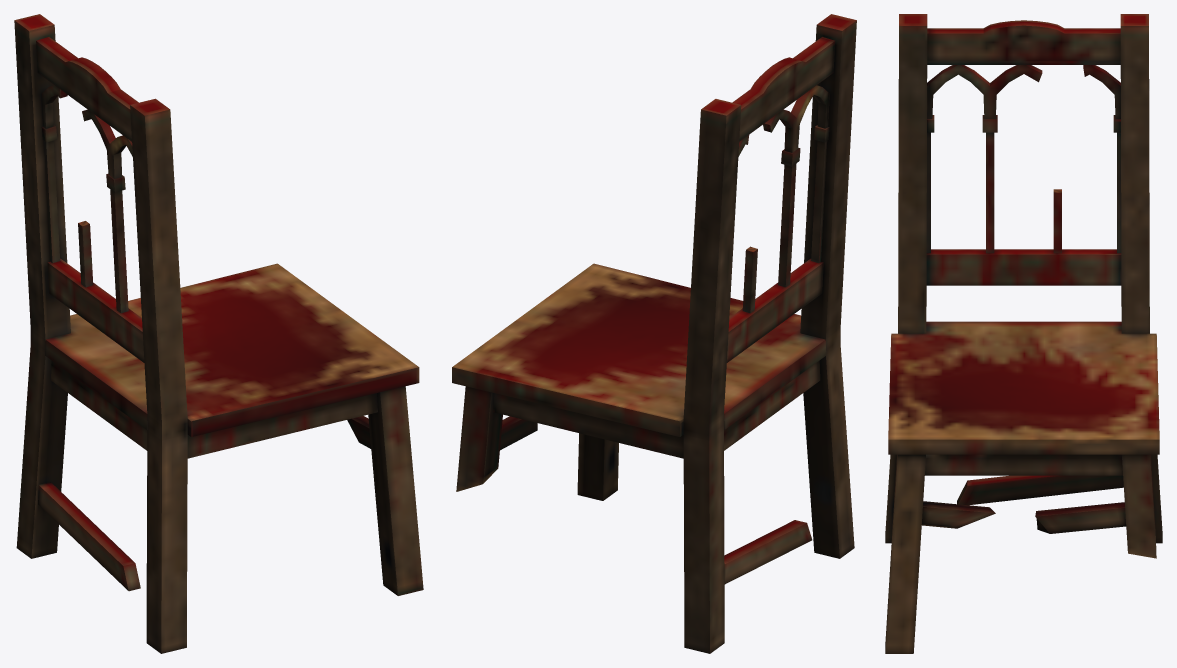
The model's file is ChairLow_Damaged.FBX.
3 renders of one model, left to right at view 1: azimuth 30°, elevation 25°; view 2: azimuth 150°, elevation 25°; view 3: azimuth 270°, elevation 25°, orthographic. The views are drawn at different scales.
Visible parts, largest first — view 1: BackBalka; view 2: BackBalka; view 3: BackBalka.
Boxes of the visible parts, bbox=[...] form: BackBalka: bbox=[14, 14, 423, 653]; BackBalka: bbox=[452, 14, 856, 653]; BackBalka: bbox=[885, 14, 1162, 653].
Bounding box in the file's own units: 53.12 × 100 × 48.95.
